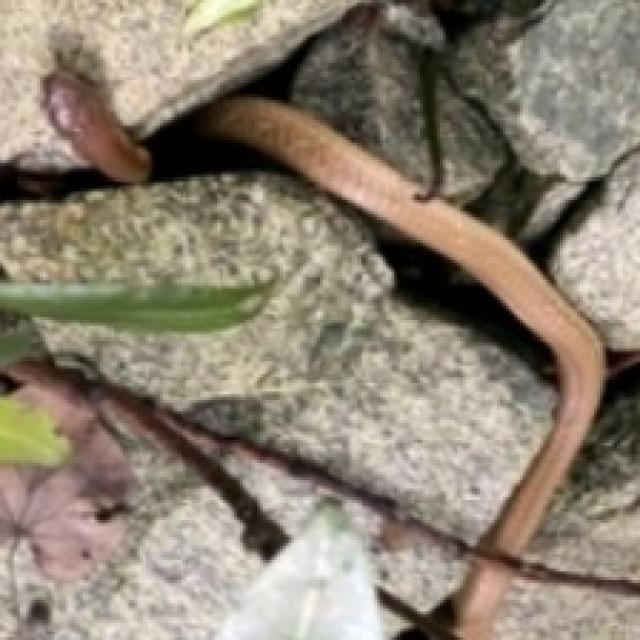king cobra: (0, 0, 637, 543), (200, 97, 603, 637), (0, 437, 260, 637), (523, 369, 637, 577), (40, 66, 154, 189), (349, 503, 463, 609), (494, 577, 637, 637)
